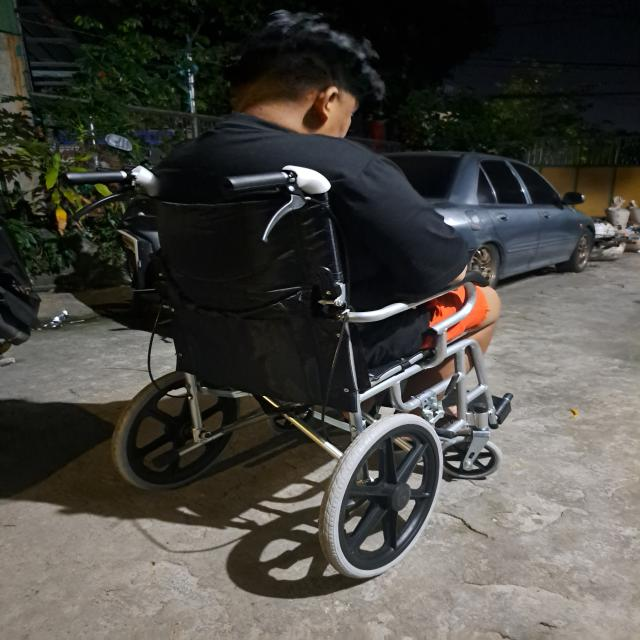wheelchairs: (58, 162, 540, 578)
